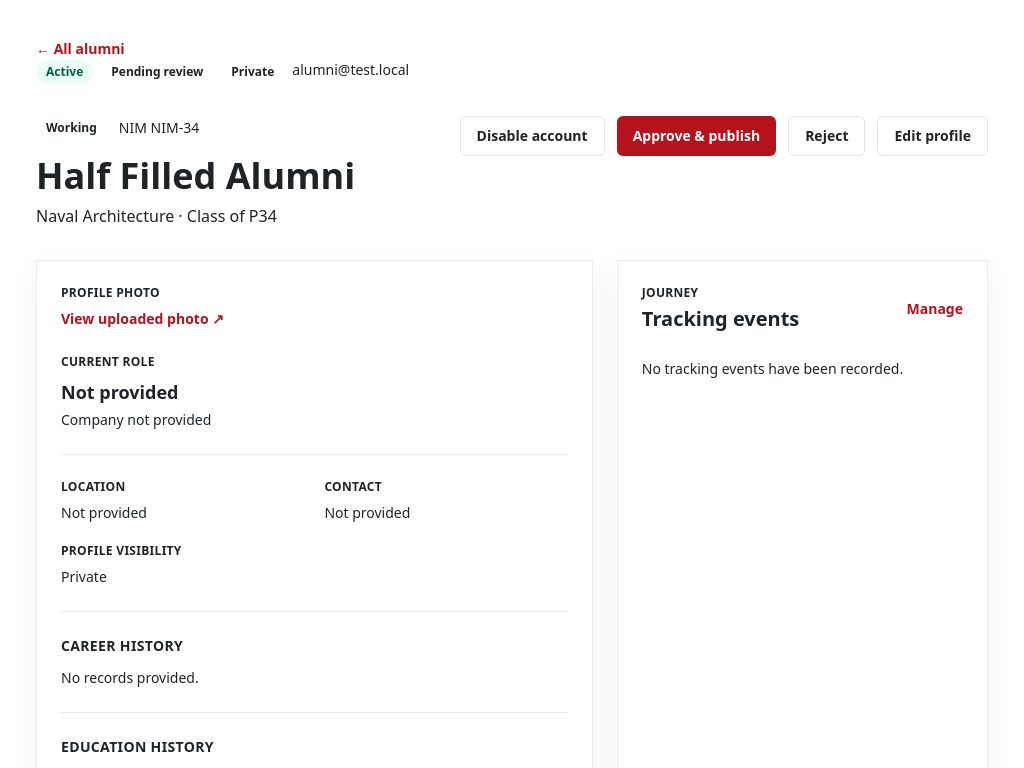
Scenario: Reject alumni modal › sends the trimmed reason to the API and closes on success
Click the button "Reject".
click(827, 136)  # box [788,116,865,156]
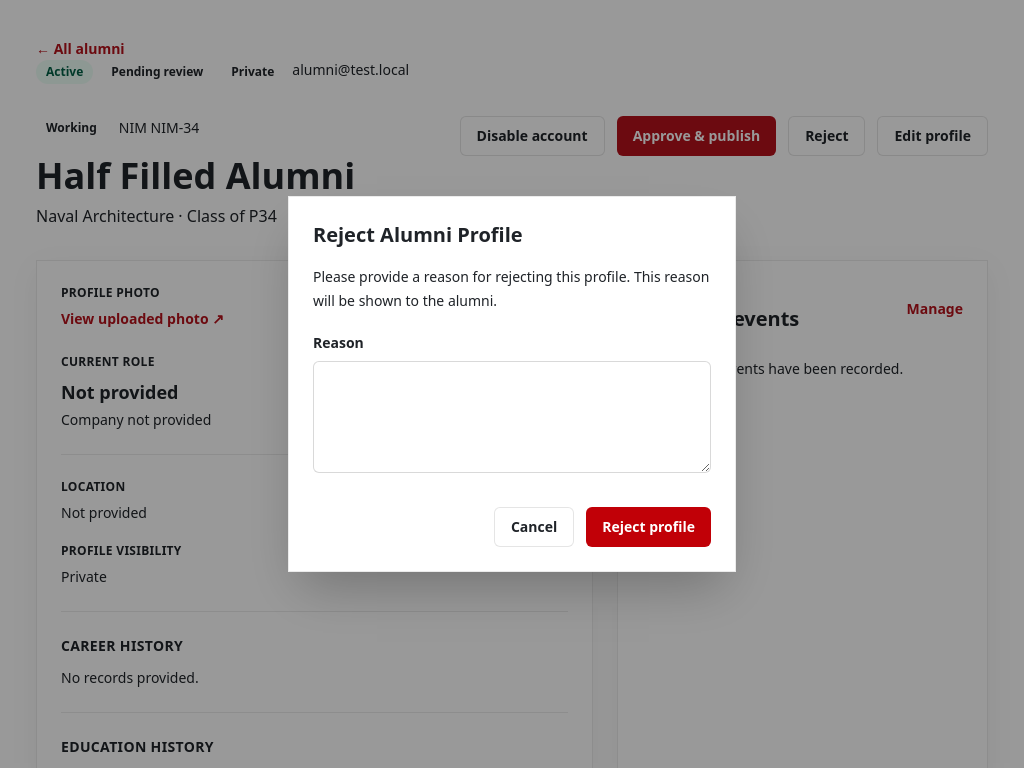
Type "  Company name and position are missing.  " into the text box labelled "Reason".
click(512, 417); type("  Company name and position are missing.  ")  # box [313,361,711,473]
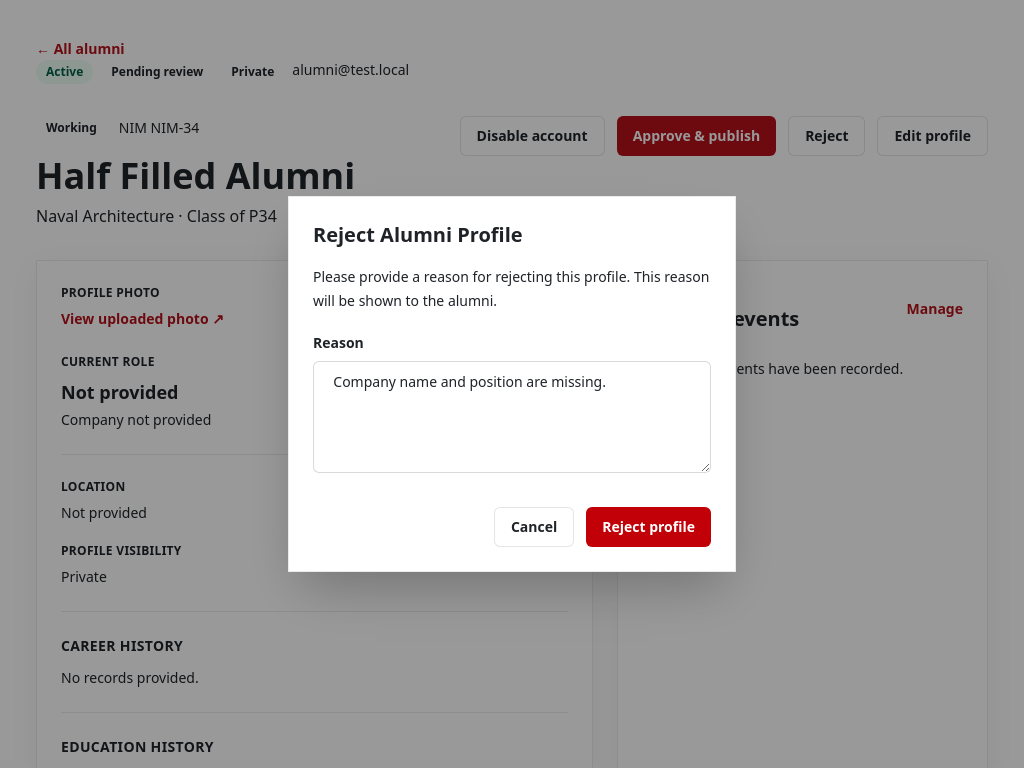
Click the button "Reject profile".
click(649, 527)  # box [586,507,711,547]
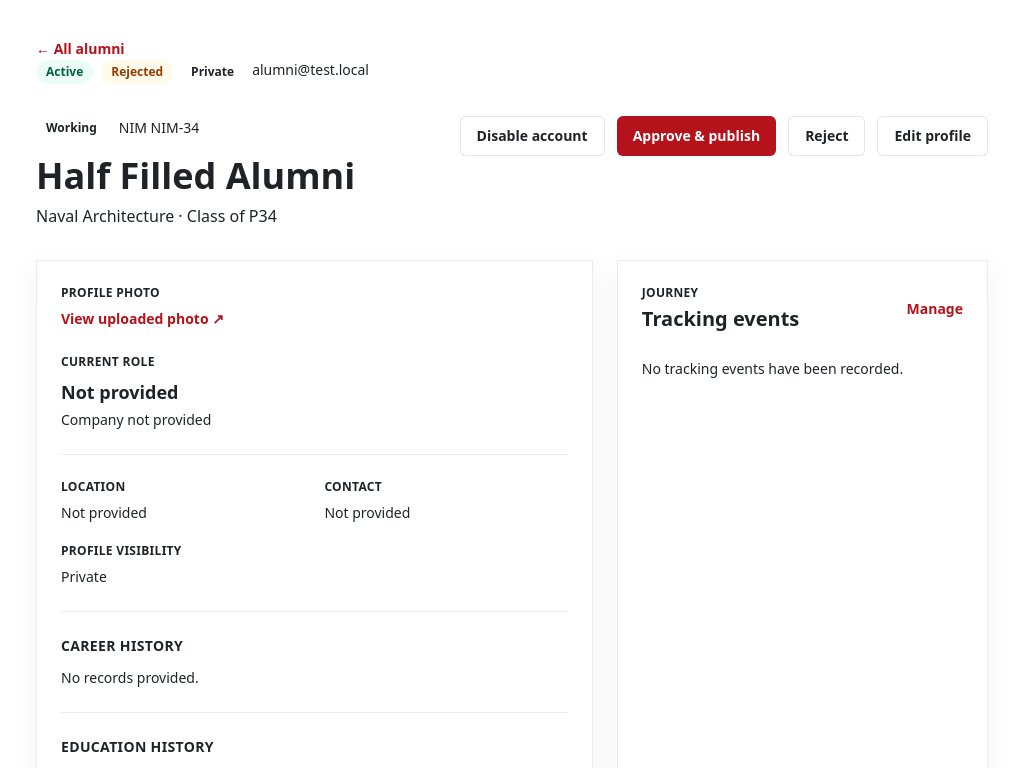
Expected: the dialog is gone
Expected: the text "Rejected" is shown, [101,60,173,84]
